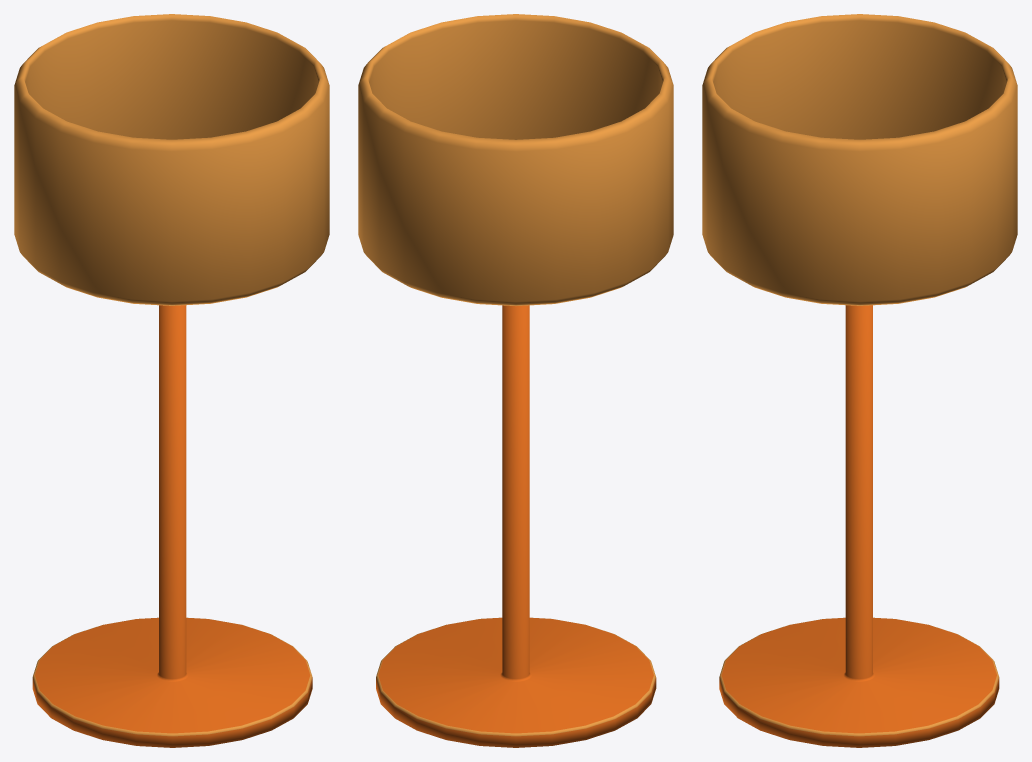
File: LampTop.fbx
3 views of the same model, side by side, from view 1: azimuth 30°, elevation 25°; view 2: azimuth 150°, elevation 25°; view 3: azimuth 270°, elevation 25° (orthographic).
Parts seen in each view (by area): view 1: Torus.004; view 2: Torus.004; view 3: Torus.004.
Part boxes in pixels (x1,y1,x2,y2): Torus.004: [14, 14, 329, 747]; Torus.004: [358, 14, 673, 747]; Torus.004: [702, 14, 1017, 747].
Bounding box in the file's own units: 49.69 × 106 × 49.69.
